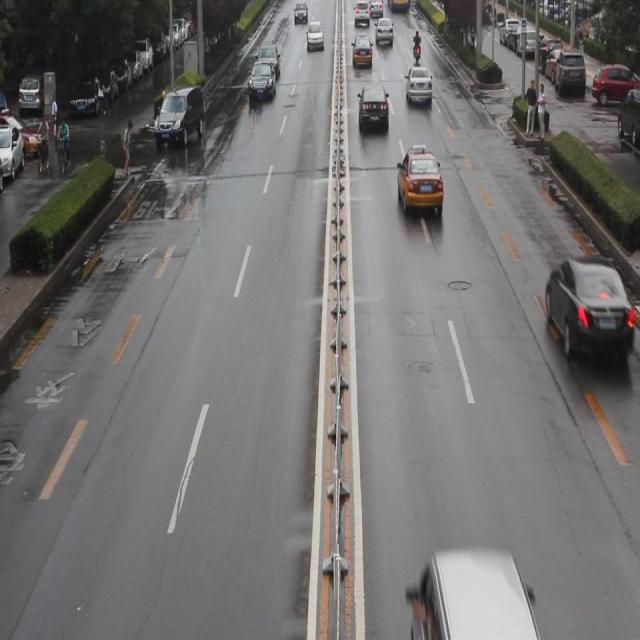car: (543, 254, 628, 364), (395, 148, 441, 216), (356, 84, 387, 134)
truck: (412, 548, 533, 632), (153, 87, 203, 144)
